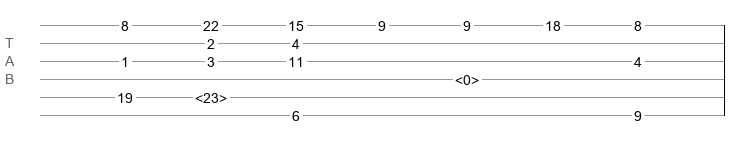1: (121, 54, 129, 64)
11: (288, 54, 304, 64)
15: (288, 18, 304, 28)
18: (545, 18, 561, 28)
19: (117, 90, 133, 100)
2: (207, 36, 215, 46)
22: (203, 18, 219, 28)
3: (207, 54, 215, 64)
4: (292, 36, 300, 46), (634, 54, 642, 64)
6: (292, 108, 300, 118)
8: (121, 18, 129, 28), (634, 18, 642, 28)
9: (378, 18, 386, 28), (463, 18, 471, 28), (634, 108, 642, 118)
harmonic: (195, 90, 227, 100), (455, 72, 479, 82)
